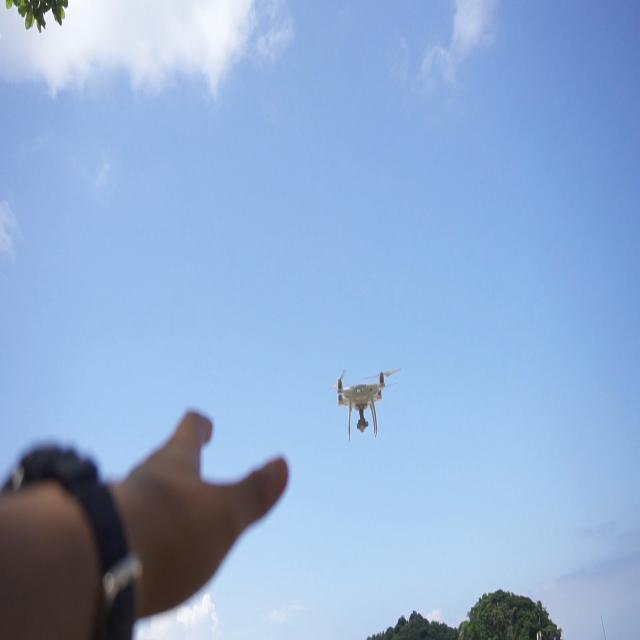Drone: (328, 344, 396, 429)
